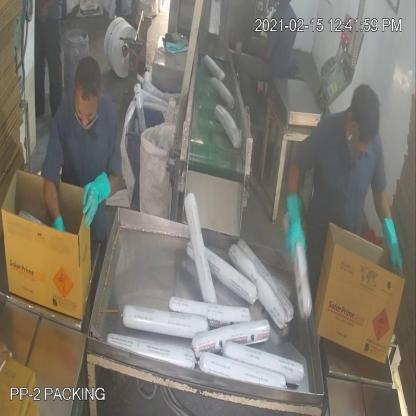glove: (78, 162, 117, 234), (373, 205, 407, 282), (283, 182, 309, 264)
